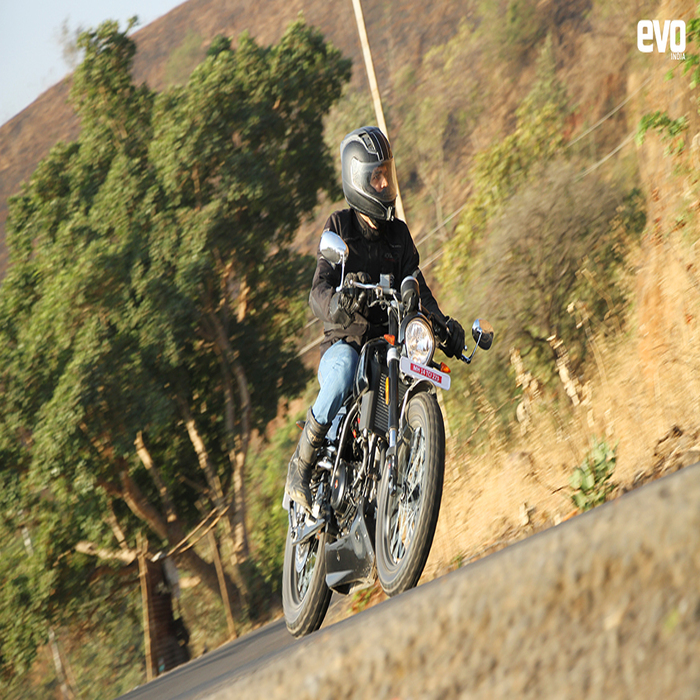h: (338, 124, 398, 223)
n: (398, 353, 453, 392)
